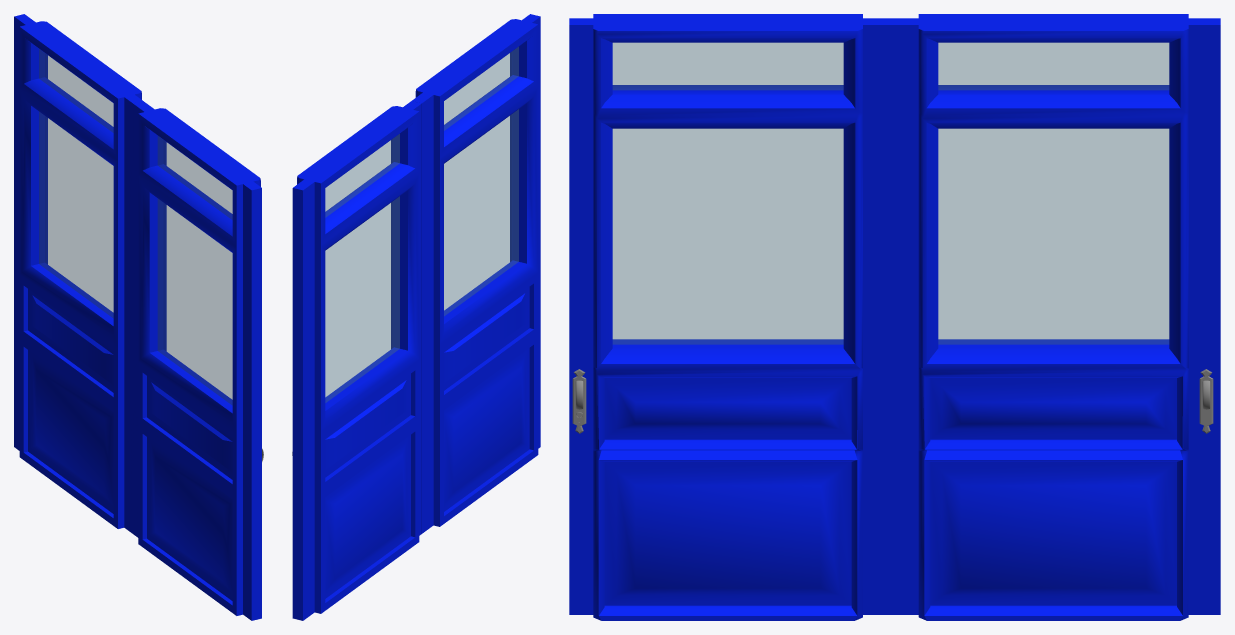
Rendered from EntireDoors2Bat.FBX.
The picture shows the model from 3 angles, left to right: view 1: azimuth 30°, elevation 25°; view 2: azimuth 150°, elevation 25°; view 3: azimuth 270°, elevation 25°; orthographic projection. The views are drawn at different scales.
Visible parts, largest first — view 1: Box001, Box003; view 2: Box003, Box001; view 3: Box003, Box001.
Boxes of the visible parts, <box> form: Box001: <box>133,101,263,620</box>; Box003: <box>14,14,142,533</box>; Box003: <box>292,101,421,620</box>; Box001: <box>412,14,540,533</box>; Box003: <box>895,14,1220,620</box>; Box001: <box>569,14,894,620</box>.
Size of the model in its own units: 11.33 by 180 by 180.
